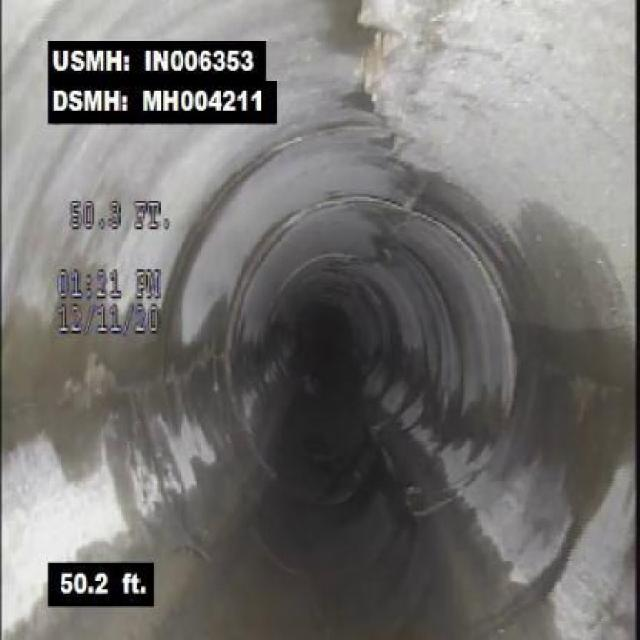Buckling: (351, 0, 418, 163)
Crack: (9, 377, 72, 417)
